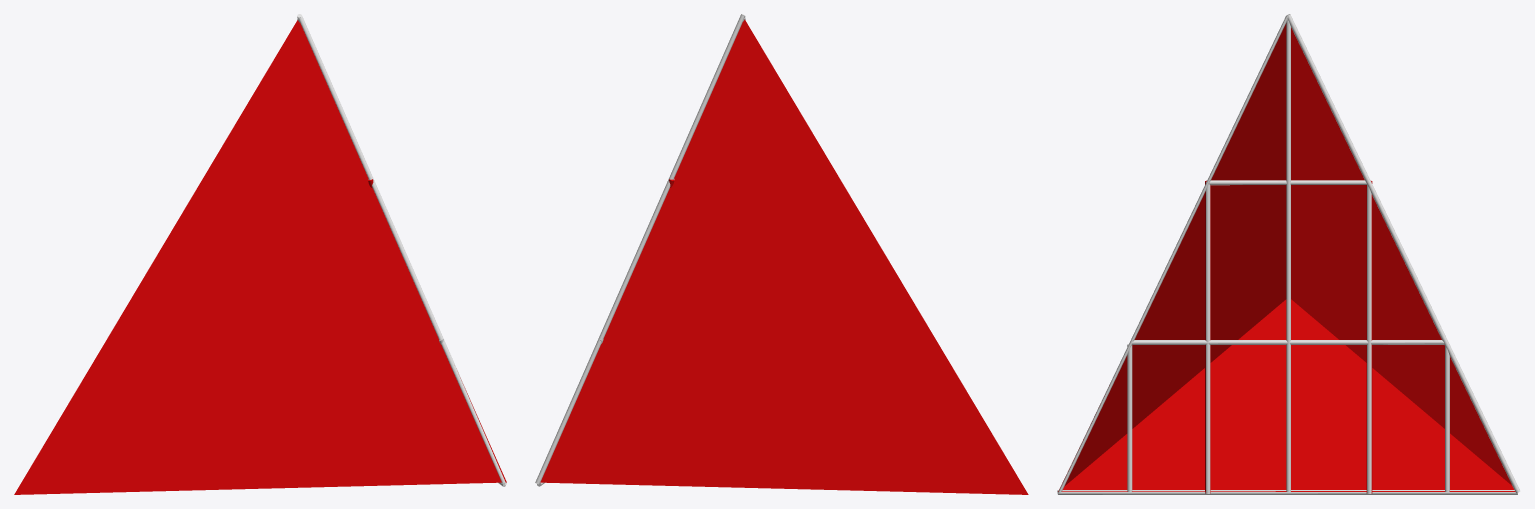
The model's file is gefangnis.fbx.
3 renders of one model, left to right at view 1: azimuth 30°, elevation 25°; view 2: azimuth 150°, elevation 25°; view 3: azimuth 270°, elevation 25°, orthographic. The views are drawn at different scales.
Visible parts, largest first — view 1: Cube, Cylinder.005; view 2: Cube, Cylinder.006; view 3: Cube, Cylinder.006, Cylinder, Cylinder.007, Cylinder.005, Cylinder.004, Cylinder.001, Cylinder.003, Cylinder.002.
Part boxes in pixels (<box>): Cube: <box>14,20,506,494</box>; Cylinder.005: <box>297,14,506,484</box>; Cube: <box>540,19,1028,494</box>; Cylinder.006: <box>535,14,745,484</box>; Cube: <box>1058,23,1515,493</box>; Cylinder.006: <box>1286,14,1520,493</box>; Cylinder: <box>1286,19,1290,491</box>; Cylinder.007: <box>1057,490,1517,494</box>; Cylinder.005: <box>1058,14,1289,493</box>; Cylinder.004: <box>1132,340,1444,344</box>; Cylinder.001: <box>1127,344,1132,491</box>; Cylinder.003: <box>1209,180,1366,185</box>; Cylinder.002: <box>1445,346,1449,491</box>.
Bounding box in the file's own units: 582 × 601 × 583.
